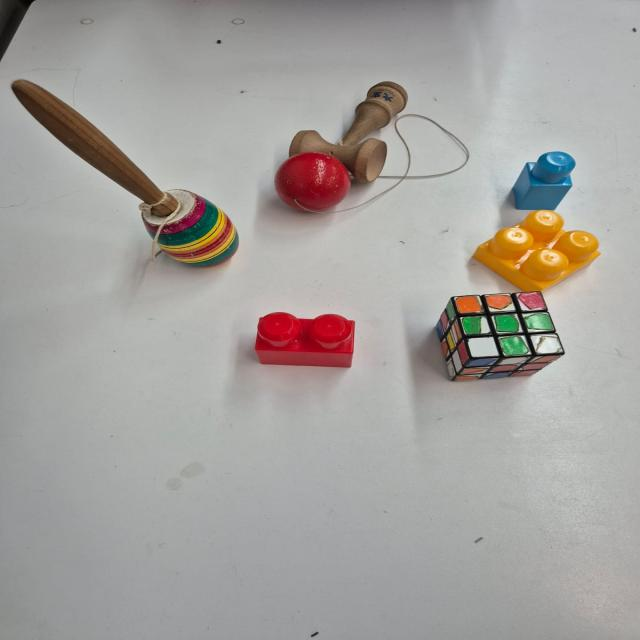balero: (12, 80, 245, 267)
balero ball: (273, 80, 470, 216)
lego 2: (253, 312, 358, 367)
lego 4: (471, 210, 600, 292)
lego_1: (511, 152, 574, 210)
rubick: (432, 289, 566, 380)
